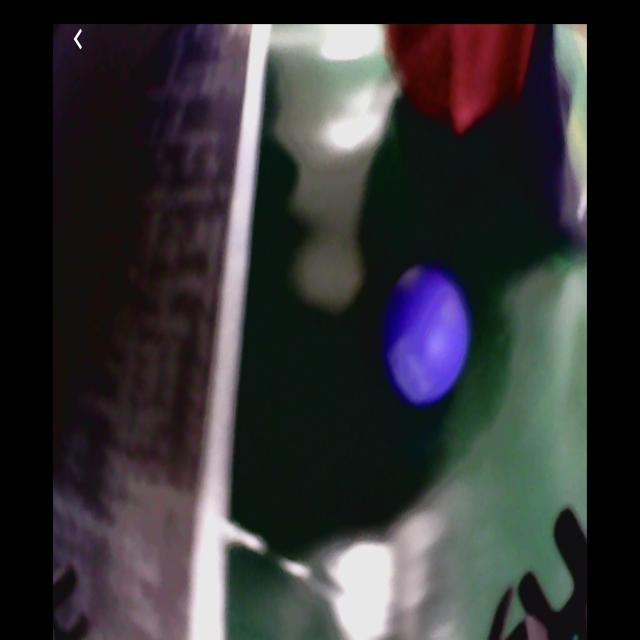ball: (381, 263, 473, 417)
